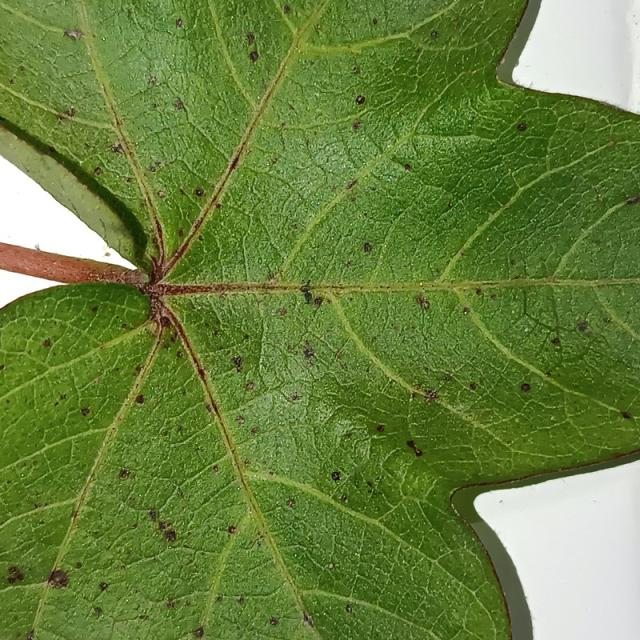Bacterial_Blight: (215, 339, 326, 472), (549, 290, 633, 356), (292, 278, 328, 319), (148, 508, 178, 544), (47, 568, 70, 589), (246, 32, 260, 63), (302, 346, 318, 368), (6, 566, 24, 585), (406, 440, 423, 457), (57, 107, 75, 123), (63, 28, 84, 41), (227, 154, 241, 172), (423, 389, 439, 403), (231, 356, 244, 373), (415, 295, 430, 309), (302, 612, 315, 628), (625, 193, 640, 205), (159, 316, 172, 329), (111, 143, 125, 155), (149, 161, 162, 172), (173, 99, 184, 111), (577, 320, 589, 331), (119, 468, 131, 479), (346, 179, 357, 190), (135, 394, 146, 405), (352, 120, 362, 132), (301, 279, 311, 290), (363, 242, 373, 253), (245, 33, 255, 44), (621, 411, 634, 419), (148, 509, 157, 520), (148, 75, 157, 85), (128, 496, 137, 506), (80, 407, 90, 416), (269, 157, 278, 166), (42, 338, 51, 347), (71, 510, 80, 519), (206, 404, 215, 413), (606, 140, 616, 148), (551, 337, 561, 345), (291, 393, 300, 401), (462, 306, 470, 314), (603, 317, 612, 323), (345, 260, 352, 267), (256, 540, 262, 548)
Cotton: (0, 0, 639, 639)
